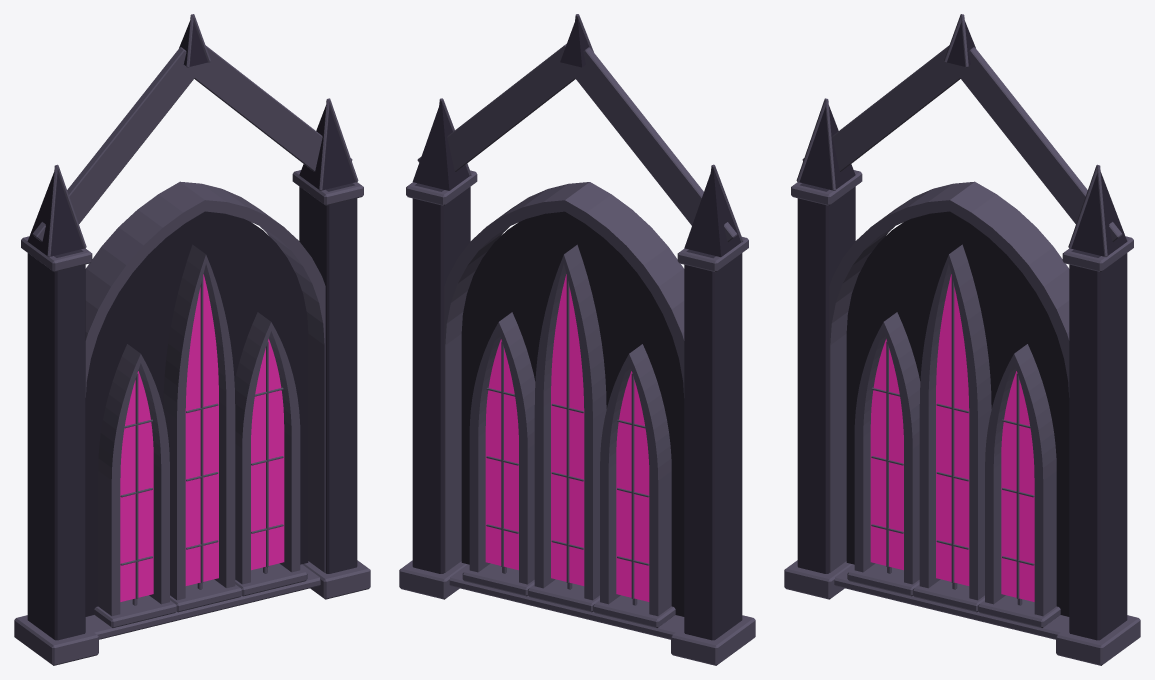
The model's file is glazed-gallery-bay.glb.
The picture shows the model from 3 angles, left to right: view 1: azimuth 30°, elevation 25°; view 2: azimuth 150°, elevation 25°; view 3: azimuth 330°, elevation 25°; orthographic projection.
Parts seen in each view (by area): view 1: glazed-gallery-bay; view 2: glazed-gallery-bay; view 3: glazed-gallery-bay.
Part boxes in pixels (bbox=[...]): glazed-gallery-bay: bbox=[14, 14, 370, 665]; glazed-gallery-bay: bbox=[399, 14, 755, 665]; glazed-gallery-bay: bbox=[784, 14, 1140, 665].
Size of the model in its own units: 8.8 by 15.81 by 1.9.
